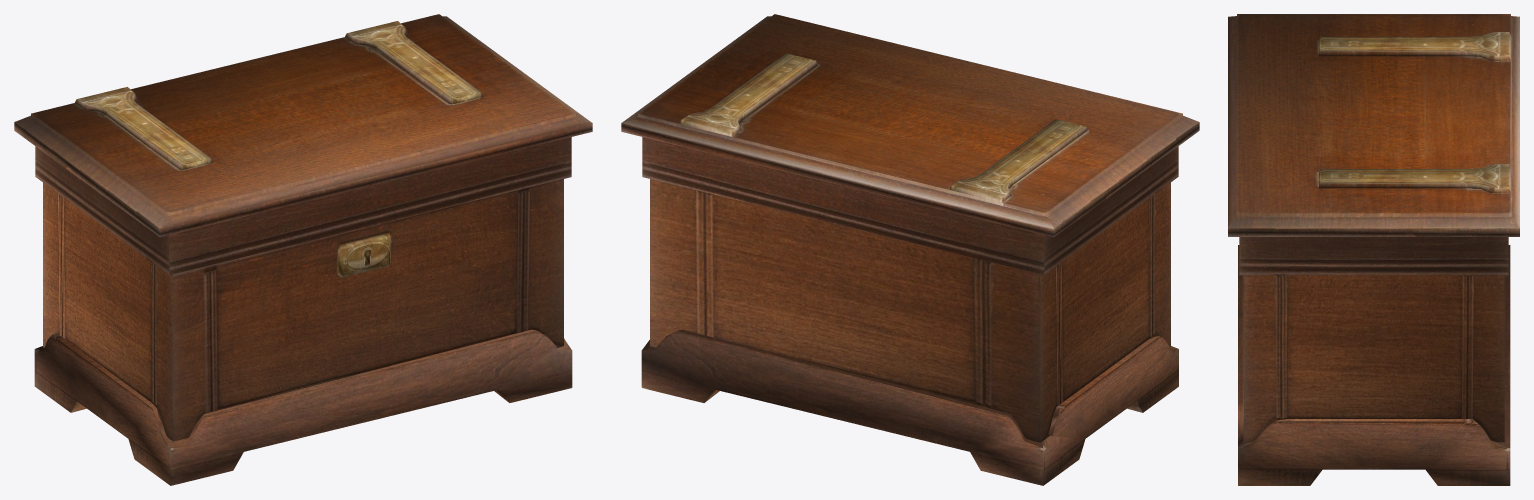
Rendered from small_wooden_chest_for_jewlery_or_treasure.glb.
The picture shows the model from 3 angles, left to right: view 1: azimuth 30°, elevation 25°; view 2: azimuth 150°, elevation 25°; view 3: azimuth 270°, elevation 25°; orthographic projection.
Visible parts, largest first — view 1: Cube.002.001; view 2: Cube.002.001; view 3: Cube.002.001.
Part boxes in pixels (box(x1,y1,x2,y2)): Cube.002.001: box(14, 14, 592, 485); Cube.002.001: box(621, 14, 1199, 485); Cube.002.001: box(1228, 14, 1519, 485).
Size of the model in its own units: 57.46 by 35.22 by 33.51.
1 material, 1 textured.
